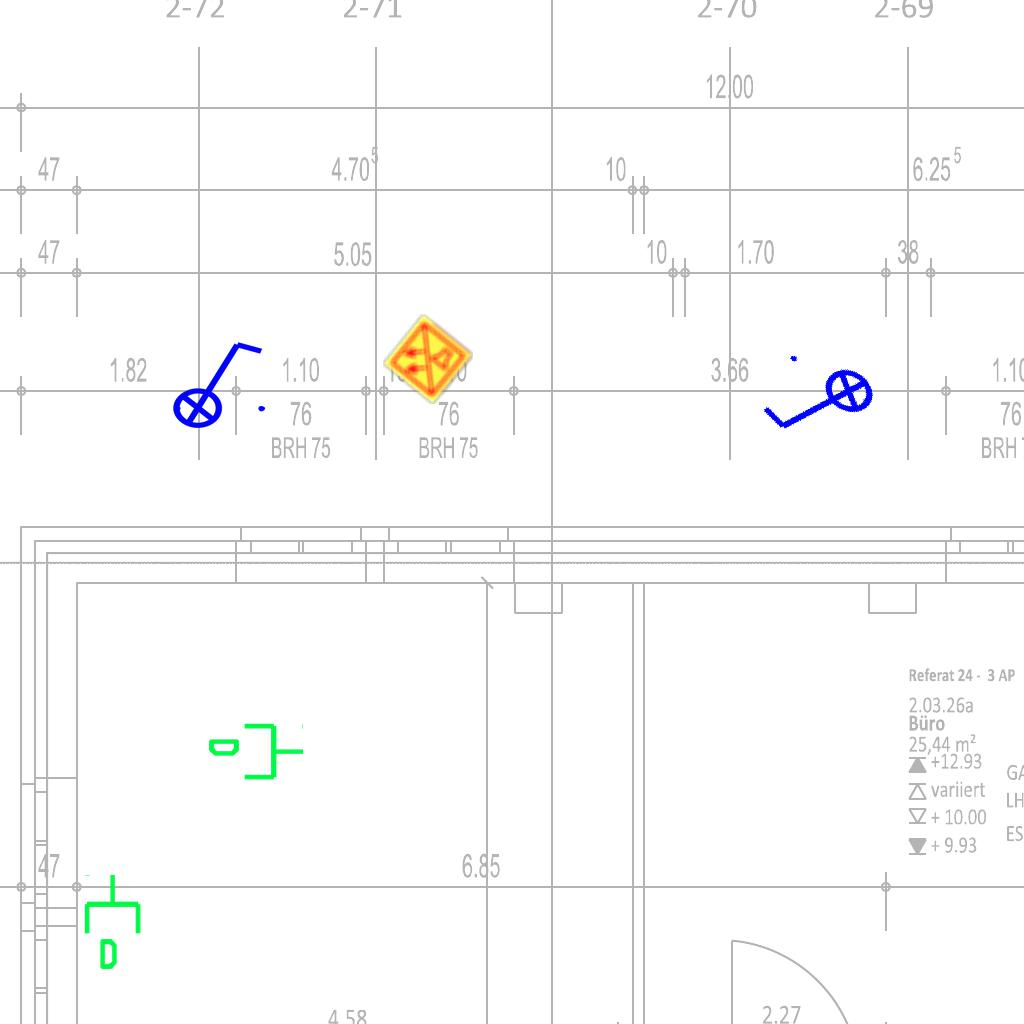Ausschalter_beleuchtet: (748, 335, 894, 475), (159, 334, 271, 430)
Datenanschluss_einfach: (80, 872, 149, 972), (206, 719, 306, 788)
OKW_Multisensormelder_(Kombination_optischer_Rauch-Kahlenmonoxid_Waerme-Melder): (381, 312, 475, 406)
